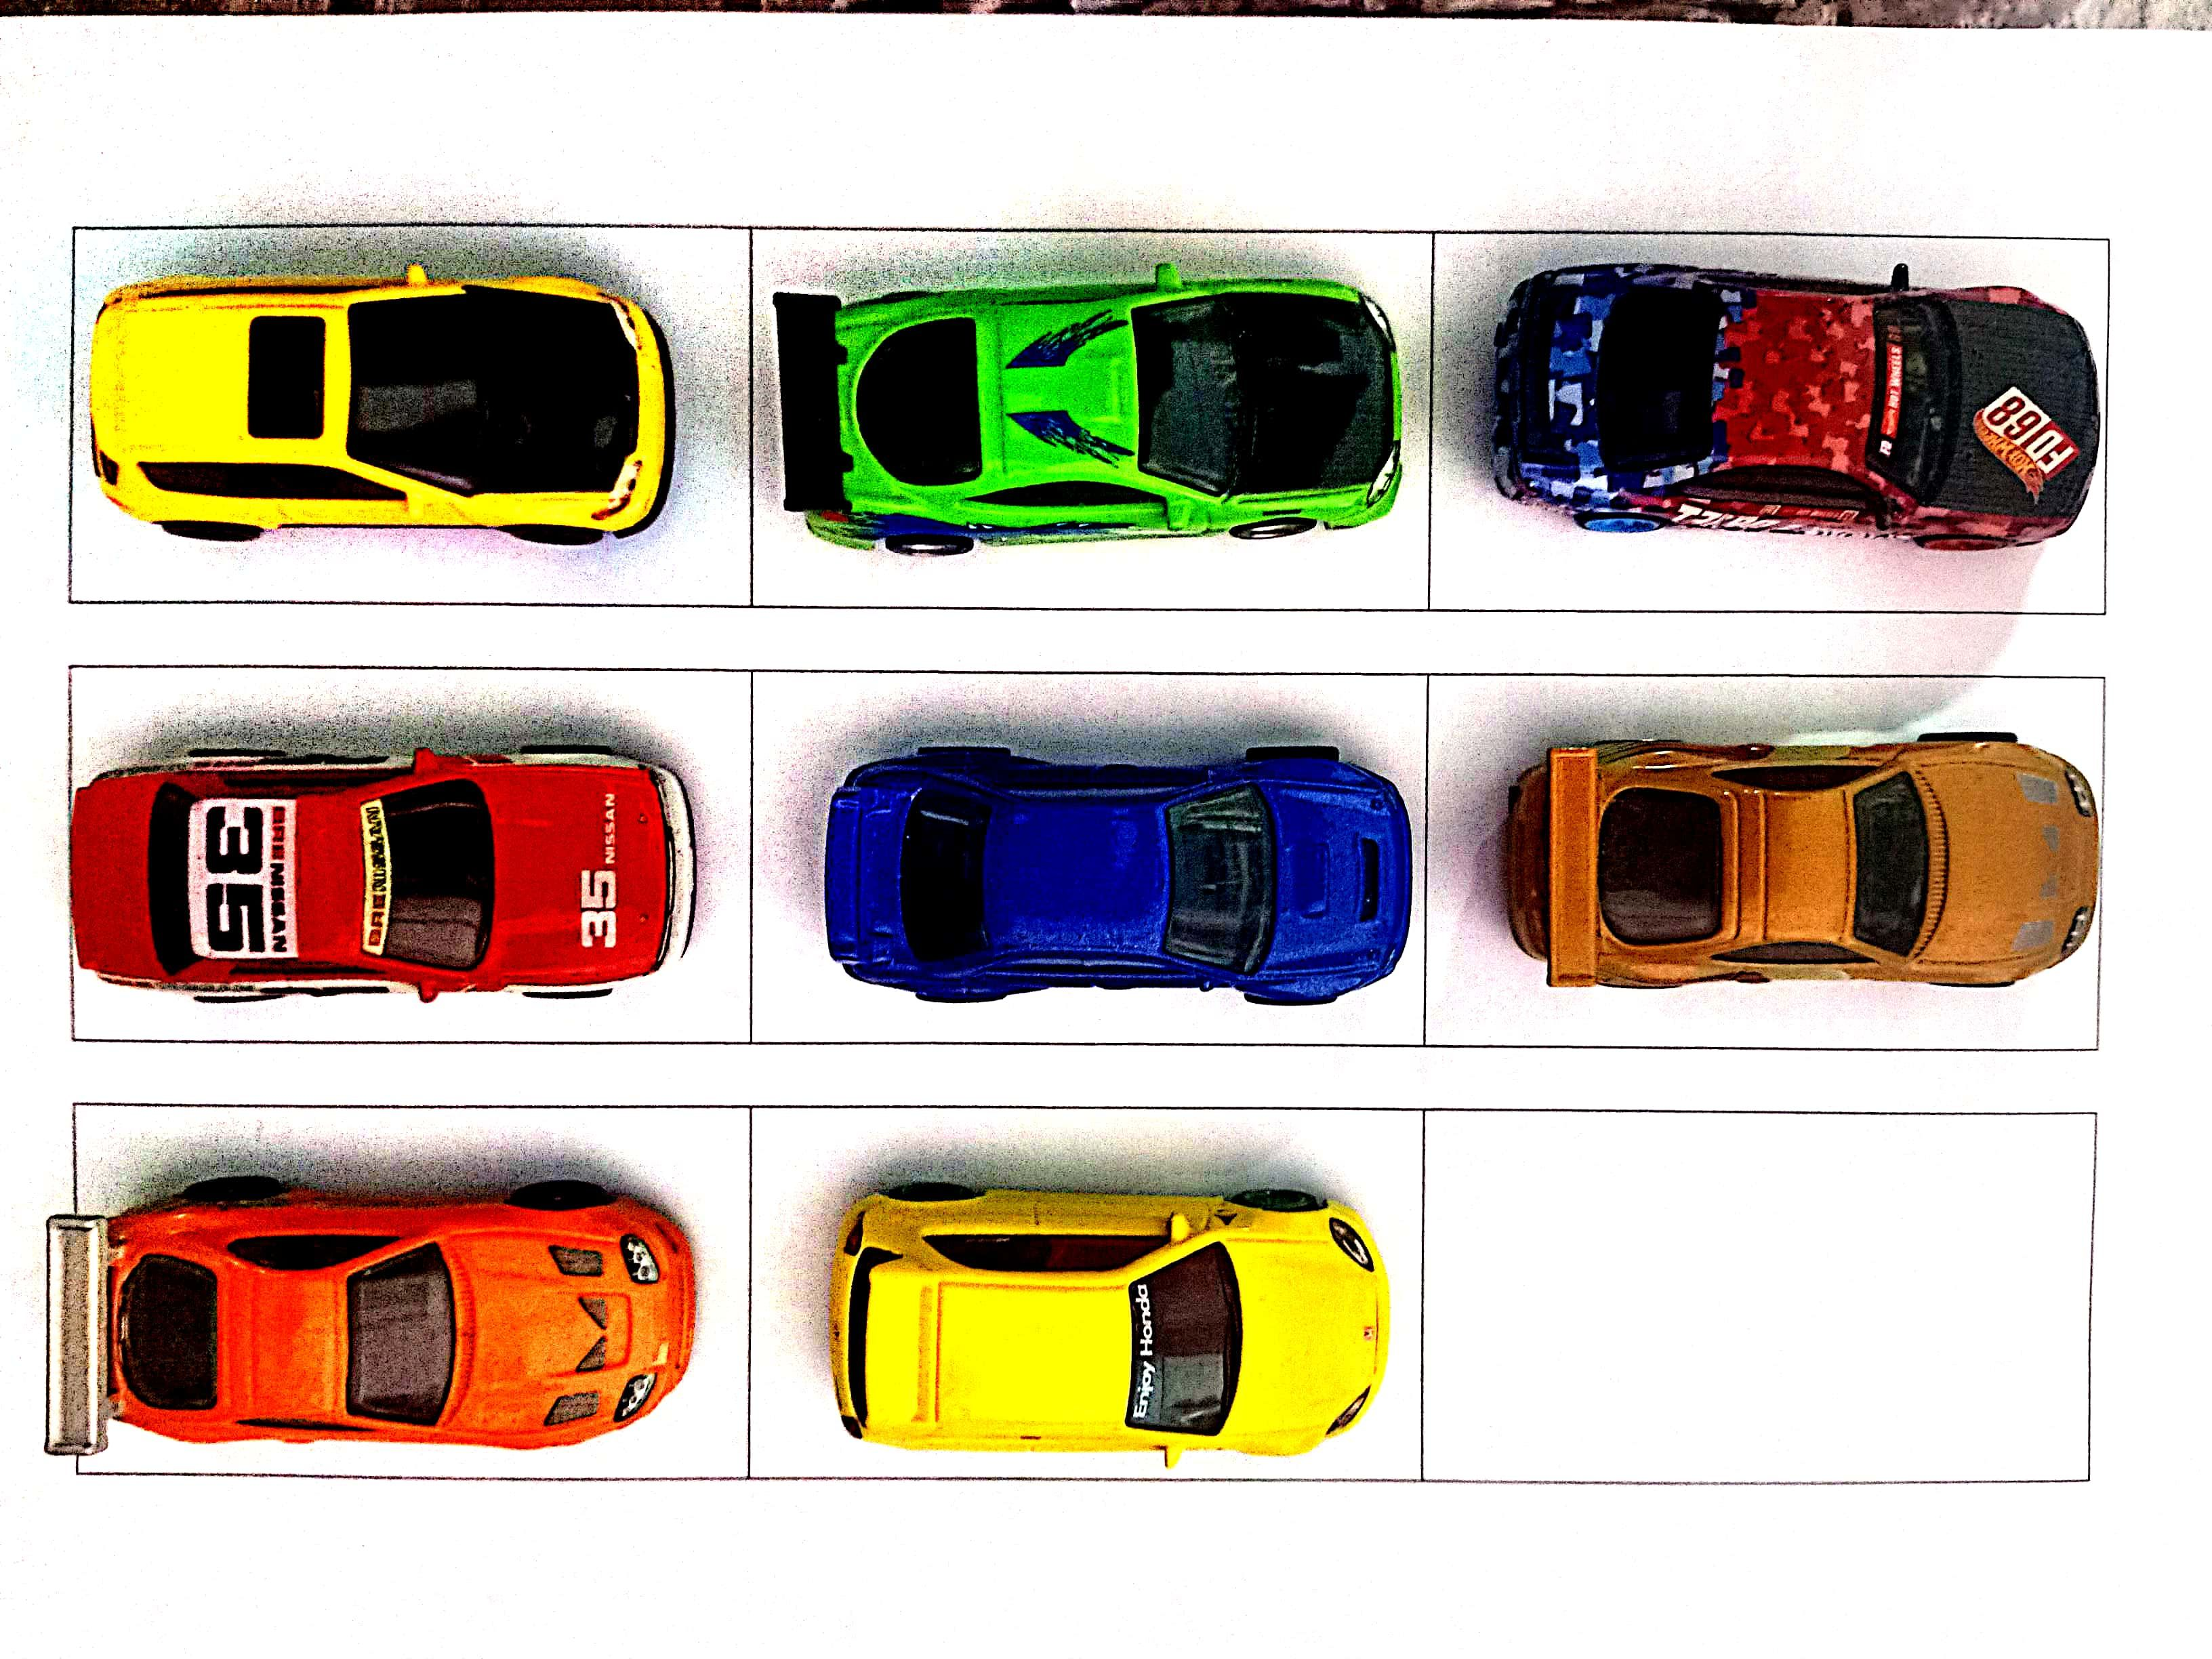Busy: (68, 228, 754, 605), (1428, 674, 2109, 1046), (1432, 240, 2104, 613), (77, 1107, 742, 1483), (754, 674, 1426, 1046), (749, 1108, 1423, 1478), (77, 673, 754, 1039), (759, 239, 1428, 606)
Free: (1423, 1117, 2094, 1480)
